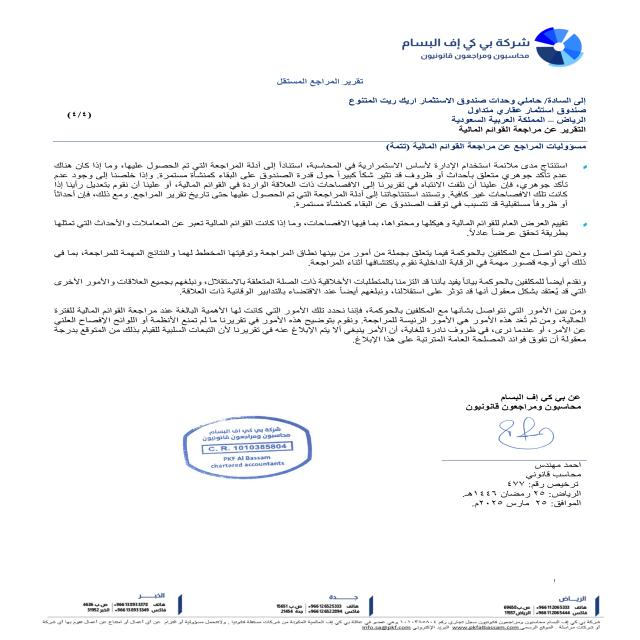auditor_report: (372, 138, 594, 153), (251, 71, 382, 90)
